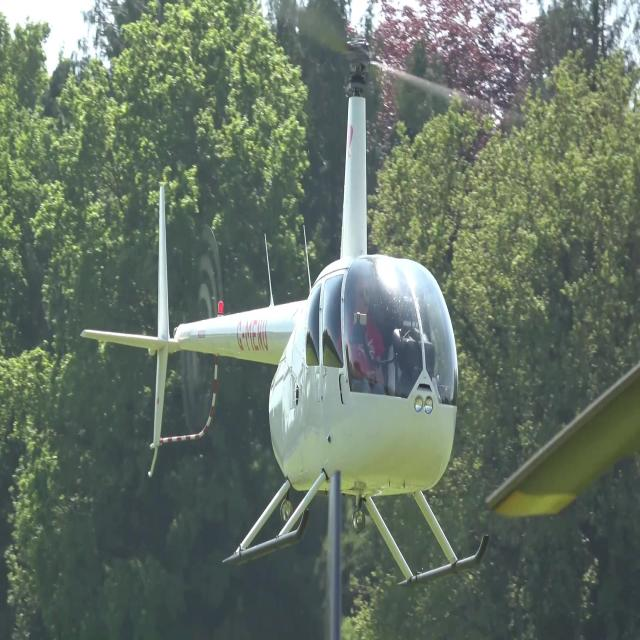CIV_HELO: (79, 40, 488, 589)
